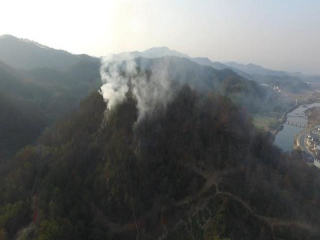smoke: (94, 48, 228, 139)
